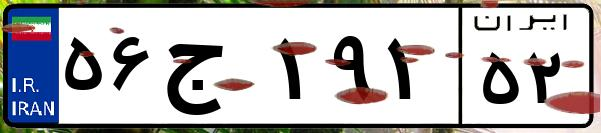1: (270, 28, 330, 110), (385, 28, 445, 110)
2: (525, 38, 570, 115)
5: (57, 26, 110, 100), (475, 38, 525, 113)
6: (110, 28, 158, 98)
9: (330, 28, 385, 110)
ج: (158, 20, 270, 120)
